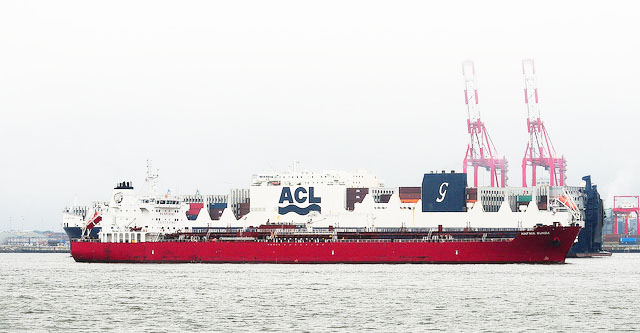tanker: (65, 187, 583, 266)
